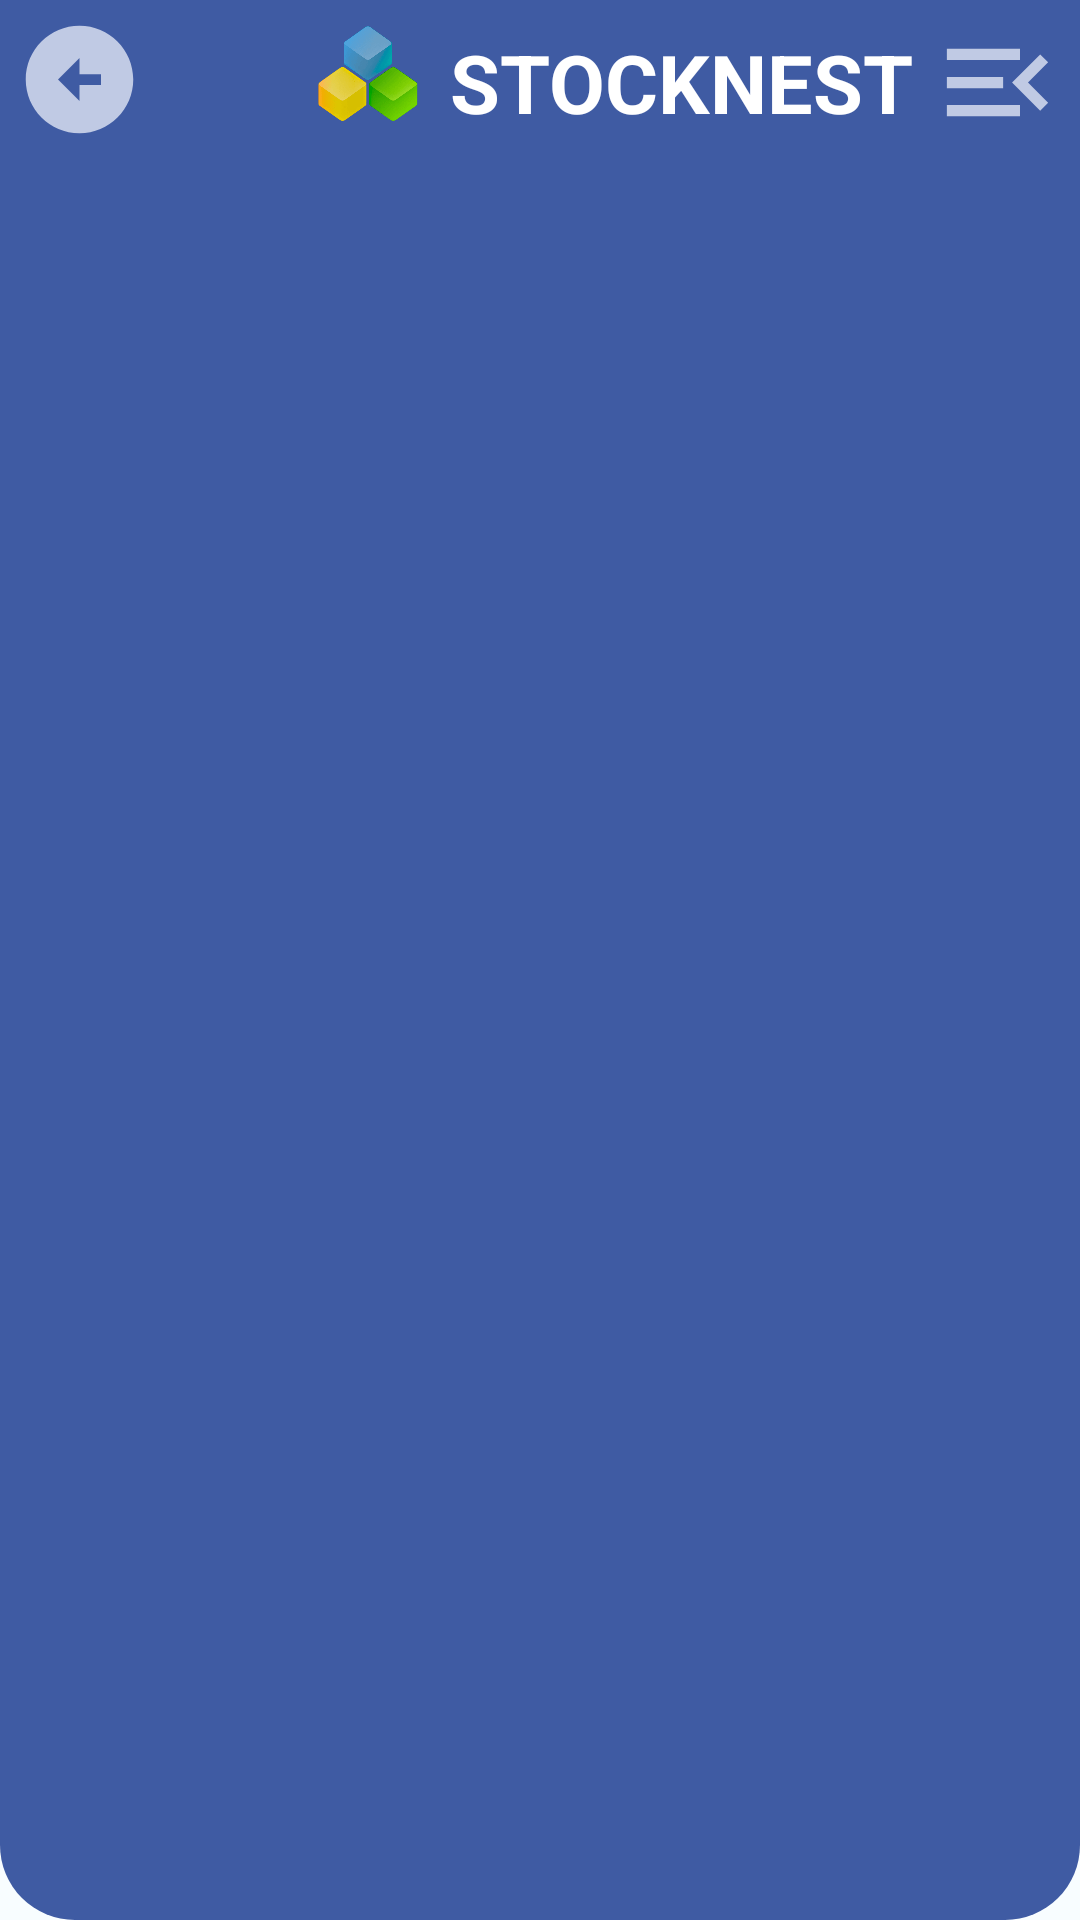

Named icons in this screenshot (1080x1920) and their centers, (x,y):
arrow circle left: (79,79)
open: (997,82)
